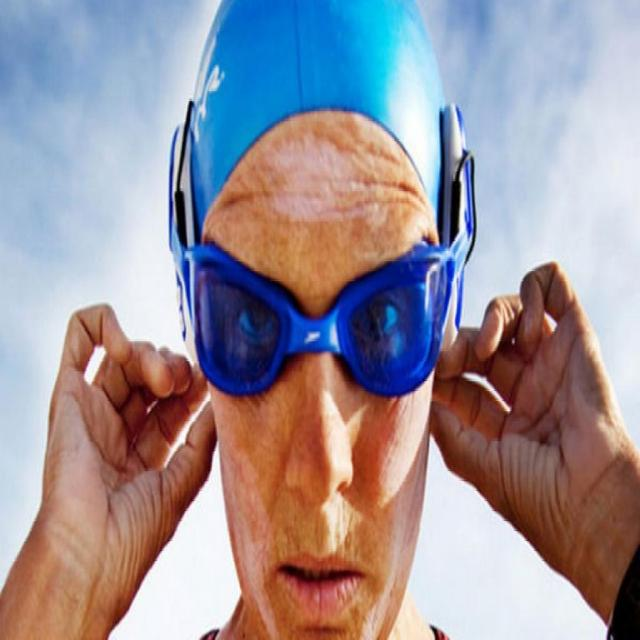nomask: (210, 158, 435, 640)
